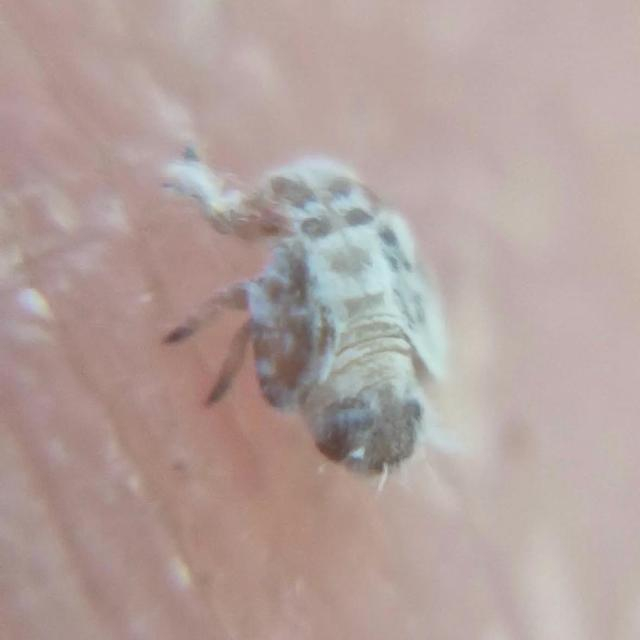Psyllid: (163, 145, 449, 478)
